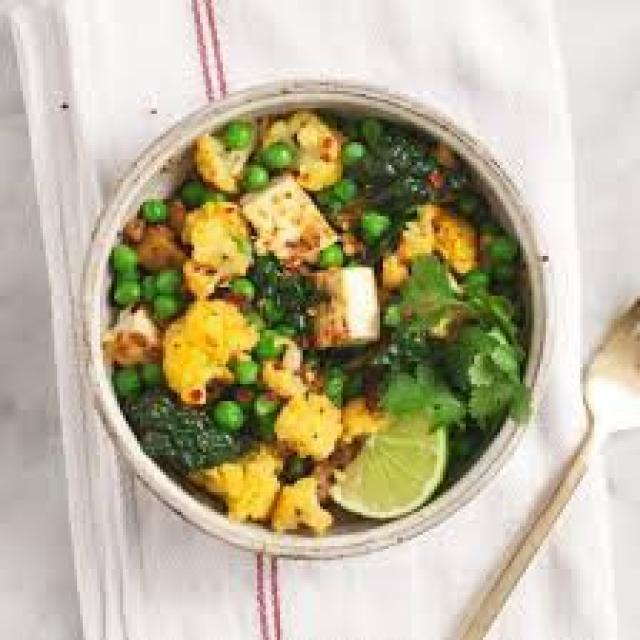aloo_gobi: (122, 77, 543, 533)
